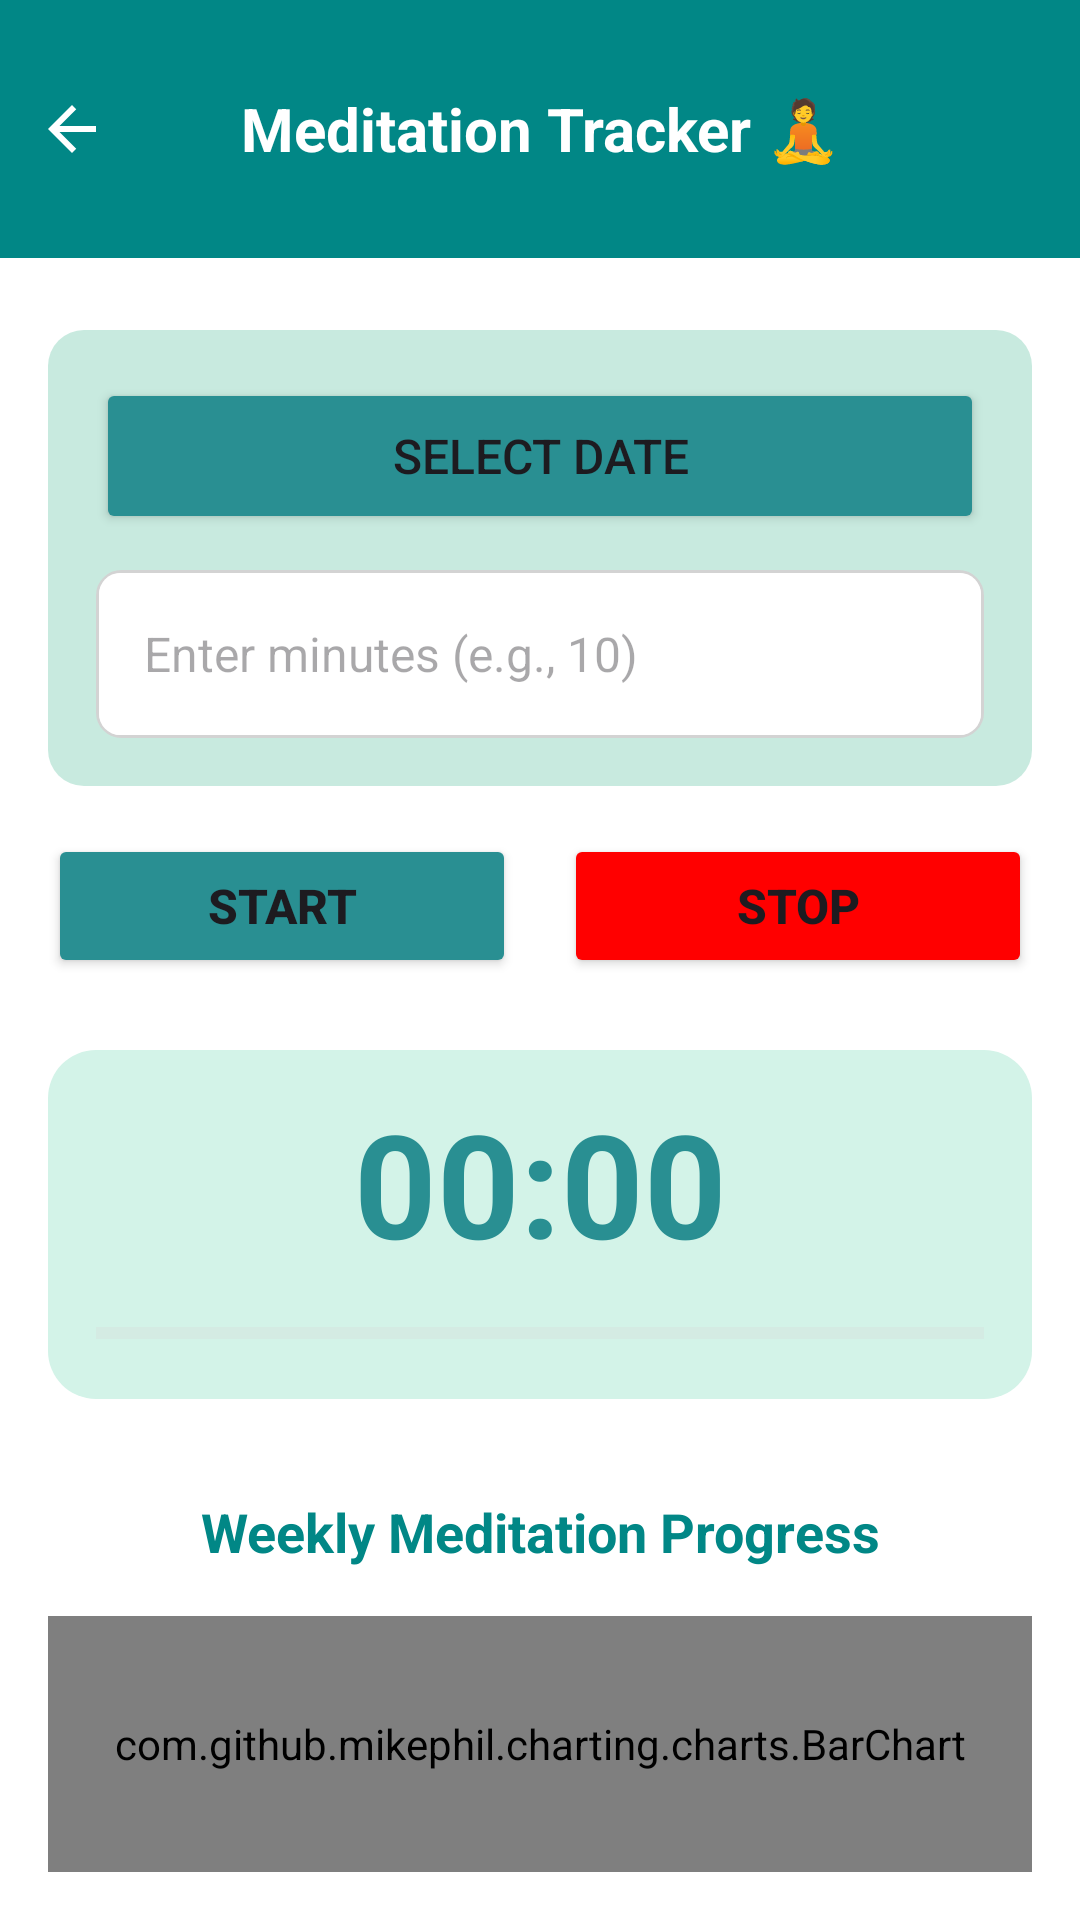

Point at icon controls on the screen. Image size 1080 × 1920, points as [x,y].
Back: [72,129]
